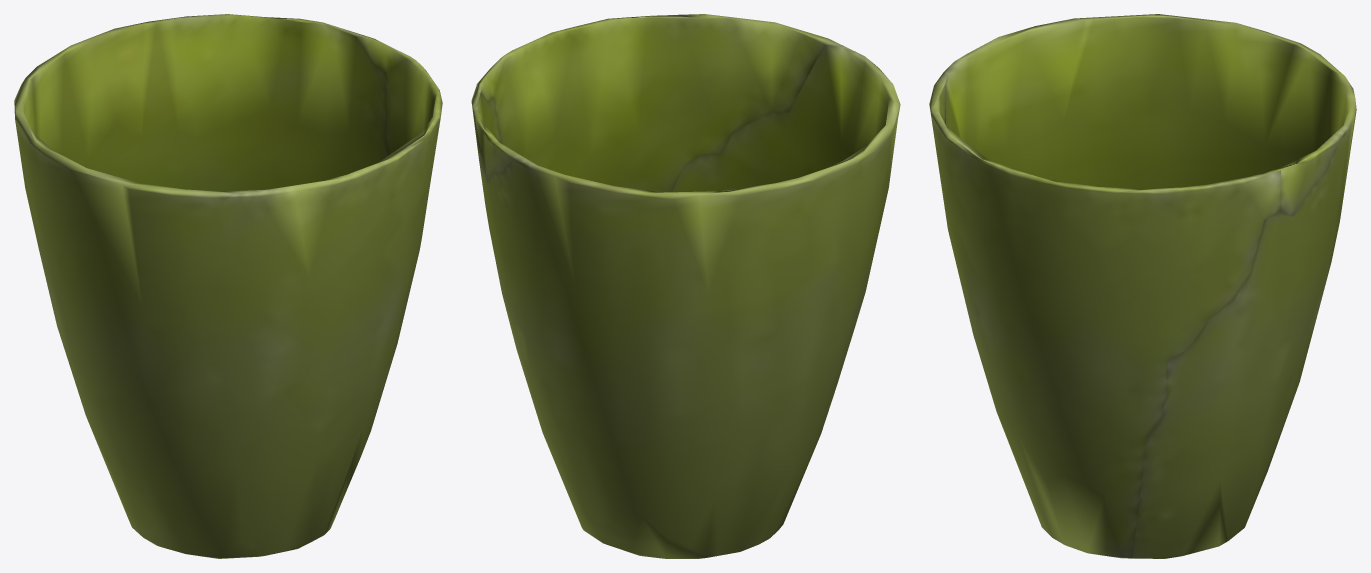
Rendered from Ecoforms_Plant_Container_Urn_55_Avocado-medium.glb.
The picture shows the model from 3 angles, left to right: view 1: azimuth 30°, elevation 25°; view 2: azimuth 150°, elevation 25°; view 3: azimuth 270°, elevation 25°; orthographic projection.
Visible parts, largest first — view 1: Ecoforms_Plant_Container_Urn_55_Avocado; view 2: Ecoforms_Plant_Container_Urn_55_Avocado; view 3: Ecoforms_Plant_Container_Urn_55_Avocado.
Part boxes in pixels (x1=…): Ecoforms_Plant_Container_Urn_55_Avocado: x1=14, y1=14, x2=442, y2=558; Ecoforms_Plant_Container_Urn_55_Avocado: x1=471, y1=14, x2=900, y2=558; Ecoforms_Plant_Container_Urn_55_Avocado: x1=929, y1=14, x2=1356, y2=558.
Bounding box in the file's own units: 0.1492 × 0.1599 × 0.1488.
Materials: 1 (1 with a texture image).
